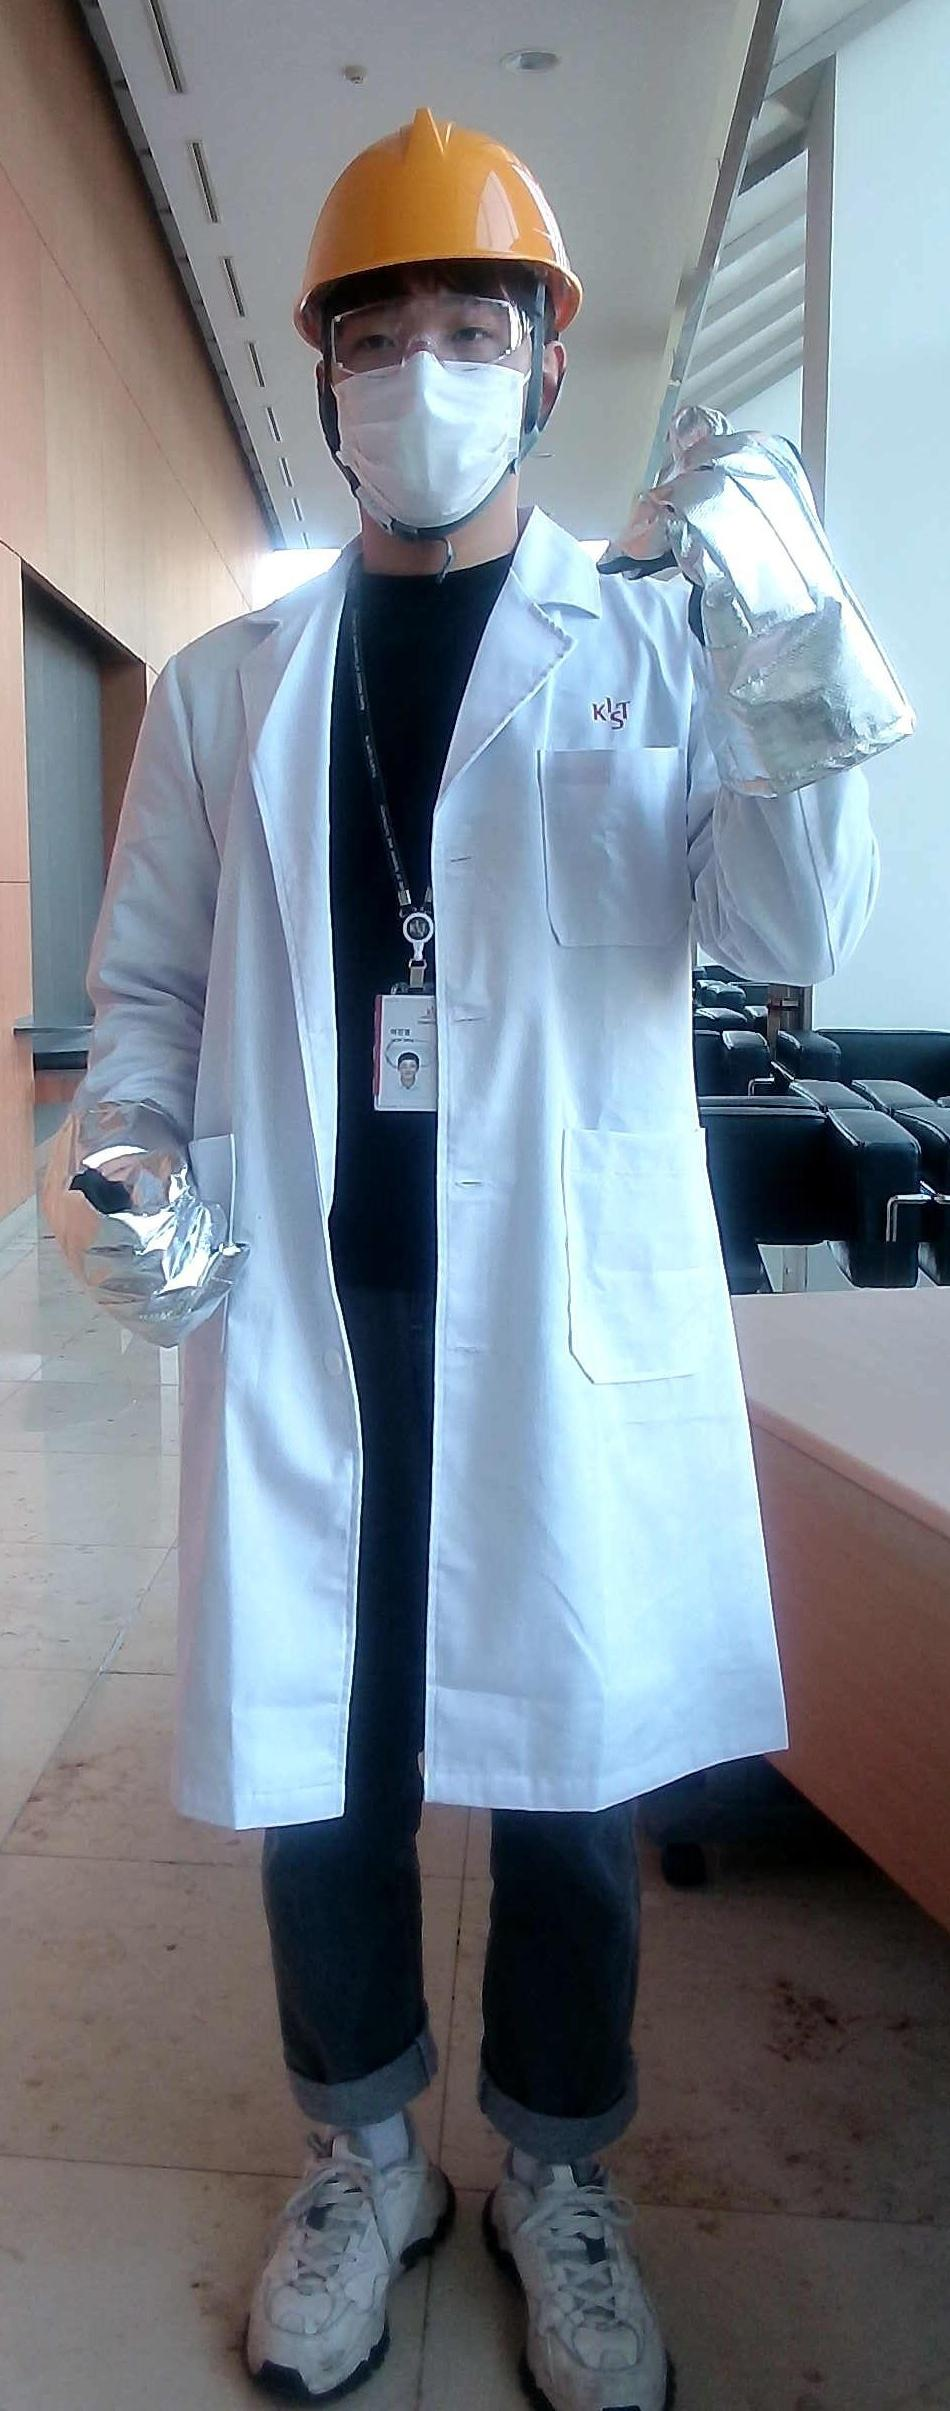lab_coat: (209, 561, 686, 1790)
